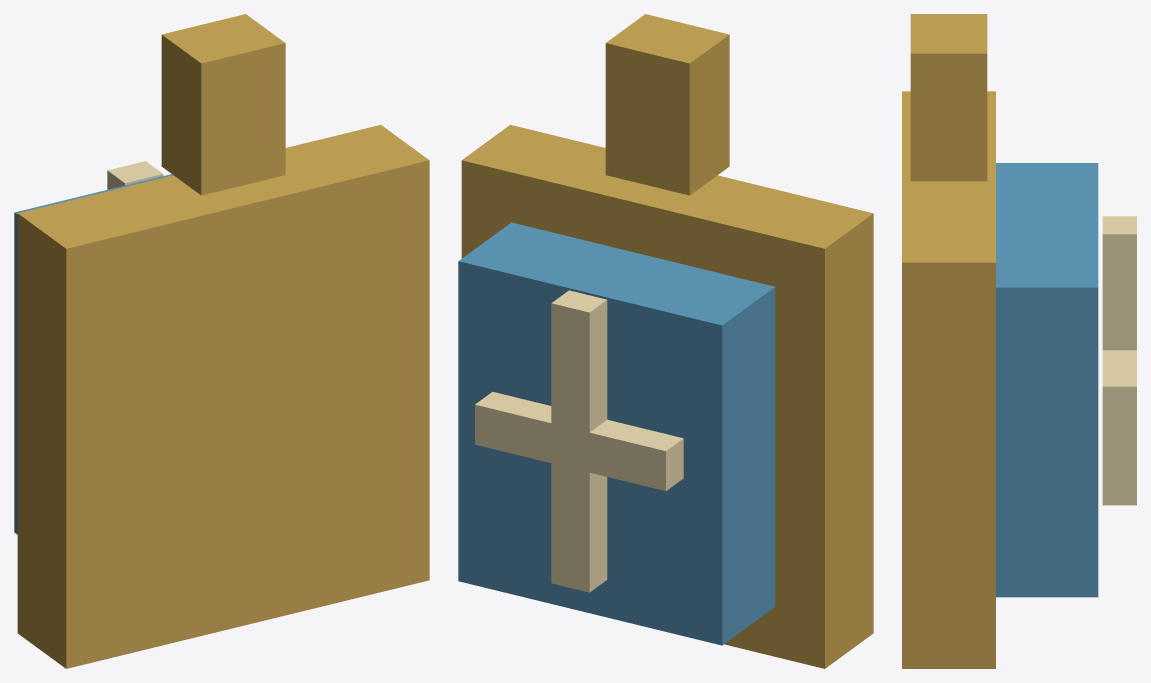
File: sentinel_seal.glb
The picture shows the model from 3 angles, left to right: view 1: azimuth 30°, elevation 25°; view 2: azimuth 150°, elevation 25°; view 3: azimuth 270°, elevation 25°; orthographic projection. The views are drawn at different scales.
Visible parts, largest first — view 1: sentinel_seal; view 2: sentinel_seal; view 3: sentinel_seal.
Part boxes in pixels (bbox=[...]): sentinel_seal: bbox=[14, 14, 429, 668]; sentinel_seal: bbox=[458, 14, 873, 668]; sentinel_seal: bbox=[902, 14, 1136, 668].
Bounding box in the file's own units: 0.95 × 1.42 × 0.55.
